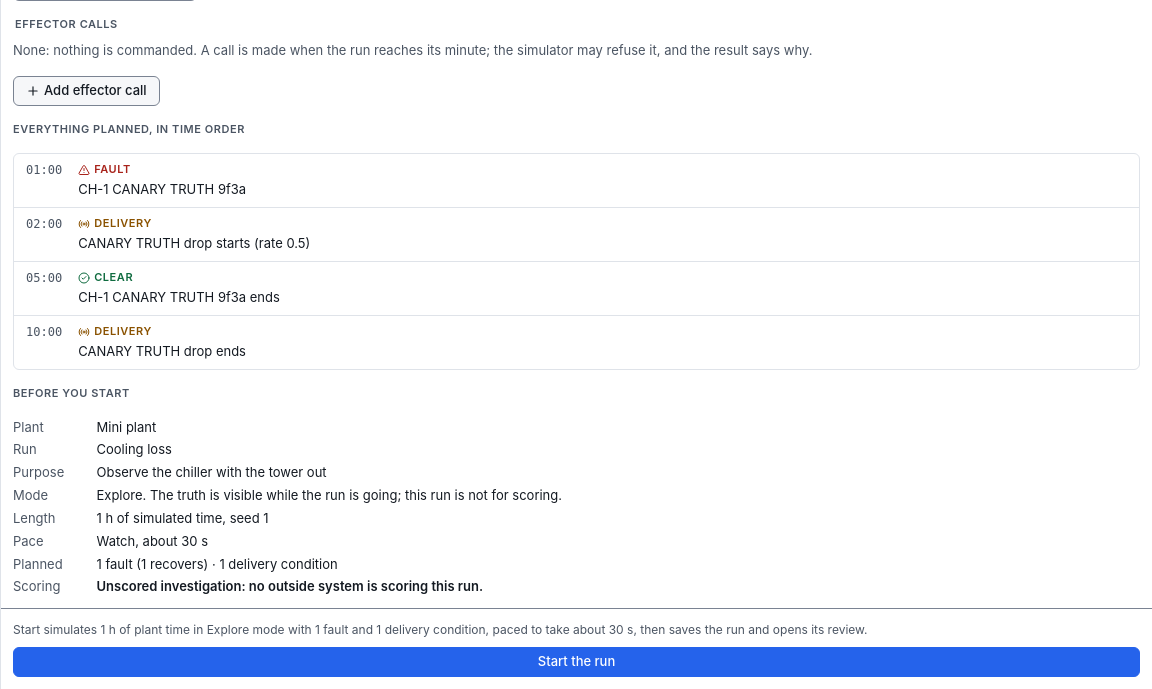
Test: the plan of an evaluation › shows the same of an exploration: the plan is not listed once the run is going
(page scrolled)
Click the button "Start the run": (576, 662) 13,647 -> 1140,677
(page scrolled)
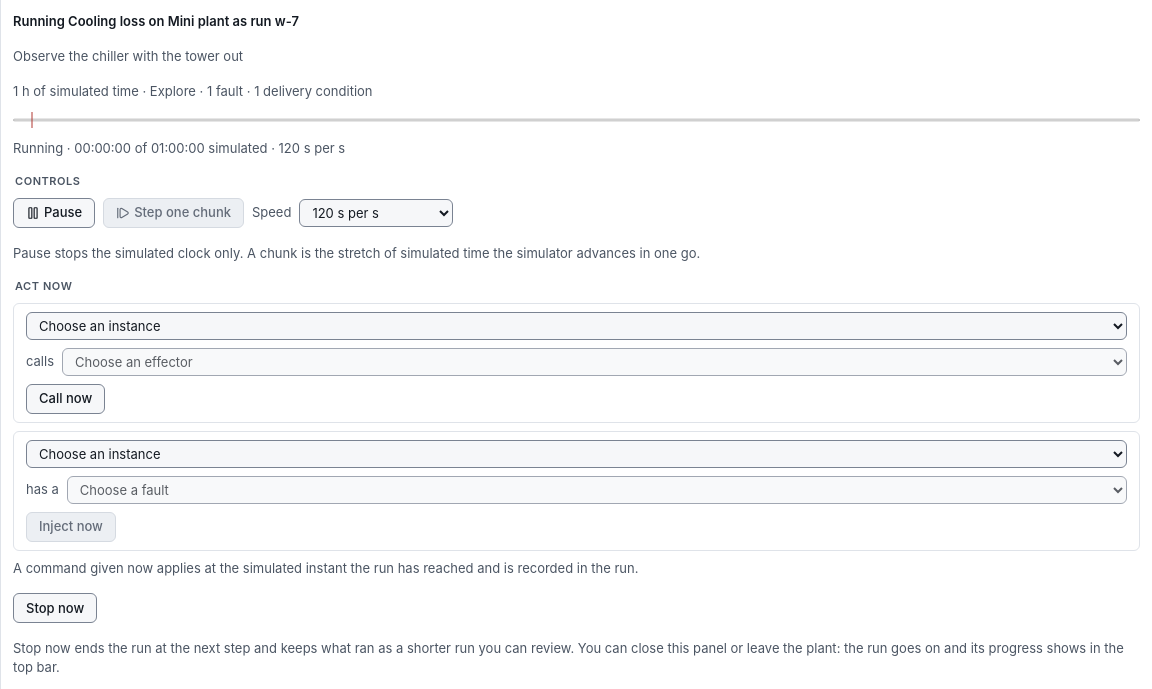
Expected: the text "Observe the chiller with the tower out" is shown, 13,48 -> 243,64
Expected: the text "Running Cooling loss on Mini plant as run w-7" is shown, 13,13 -> 299,29
